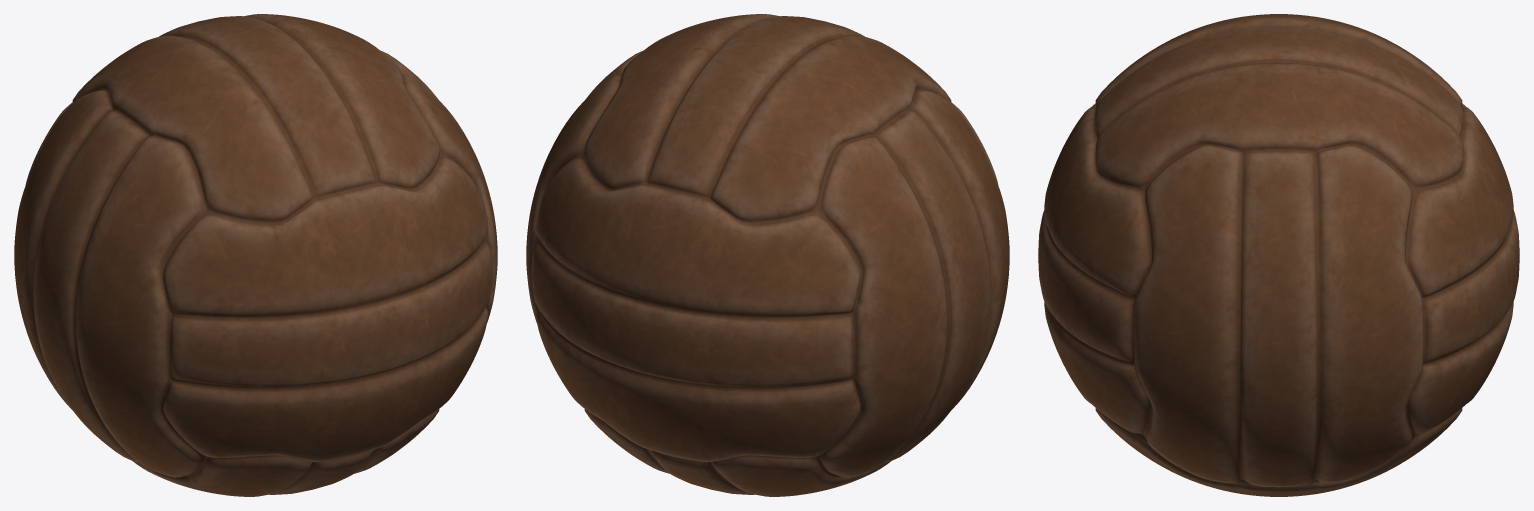
Rendered from Ball.obj.
3 views of the same model, side by side, from view 1: azimuth 30°, elevation 25°; view 2: azimuth 150°, elevation 25°; view 3: azimuth 270°, elevation 25° (orthographic).
Parts seen in each view (by area): view 1: Ball; view 2: Ball; view 3: Ball.
Boxes of the visible parts, x1,y1,x2,y2 form: Ball: [14, 14, 497, 496]; Ball: [526, 14, 1009, 496]; Ball: [1038, 14, 1519, 496].
Size of the model in its own units: 66.74 by 66.74 by 66.74.
Materials: 1 (1 with a texture image).
